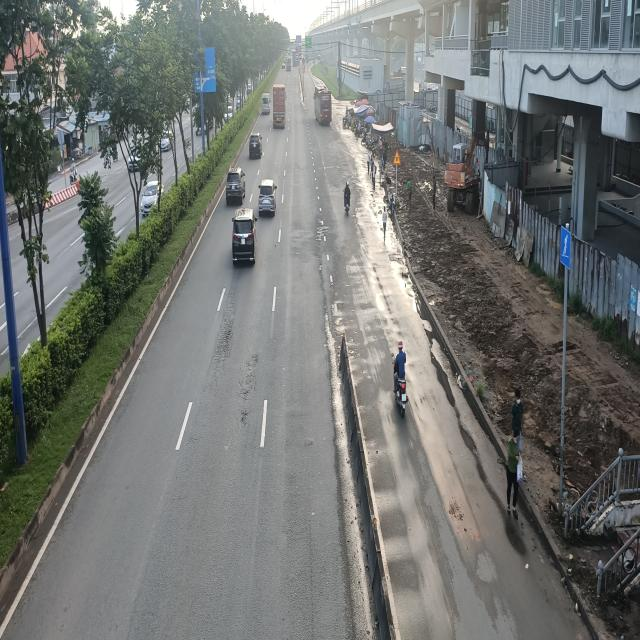car: (232, 211, 258, 267), (224, 166, 246, 205), (256, 180, 276, 218), (248, 132, 263, 160)
coach: (314, 86, 332, 126)
container: (271, 85, 287, 132)
van: (260, 91, 272, 114)
